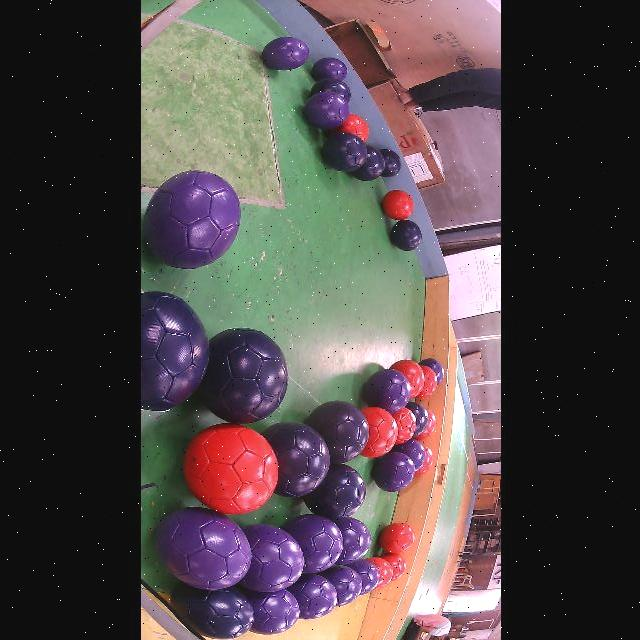B: (199, 328, 288, 424), (140, 291, 208, 411), (170, 584, 252, 639), (302, 464, 365, 519), (321, 132, 366, 171), (349, 146, 384, 181), (309, 78, 350, 102), (390, 220, 421, 251), (379, 149, 400, 178)
P: (142, 170, 240, 269), (155, 508, 250, 590), (261, 422, 329, 498), (239, 525, 304, 592), (305, 400, 369, 464), (281, 514, 342, 572), (242, 589, 299, 635), (286, 574, 336, 620), (362, 369, 410, 414), (332, 518, 371, 565), (302, 91, 349, 129), (318, 565, 361, 606), (371, 451, 414, 492), (261, 36, 308, 70), (346, 559, 379, 595), (390, 439, 425, 471), (405, 401, 428, 438), (310, 58, 346, 81), (418, 359, 444, 385)
R: (182, 424, 278, 515), (360, 406, 398, 458), (390, 360, 424, 399), (328, 114, 369, 142), (379, 522, 414, 554), (392, 408, 415, 445), (366, 558, 392, 589), (415, 366, 436, 399), (380, 554, 405, 581), (414, 409, 435, 441), (414, 445, 432, 476)
